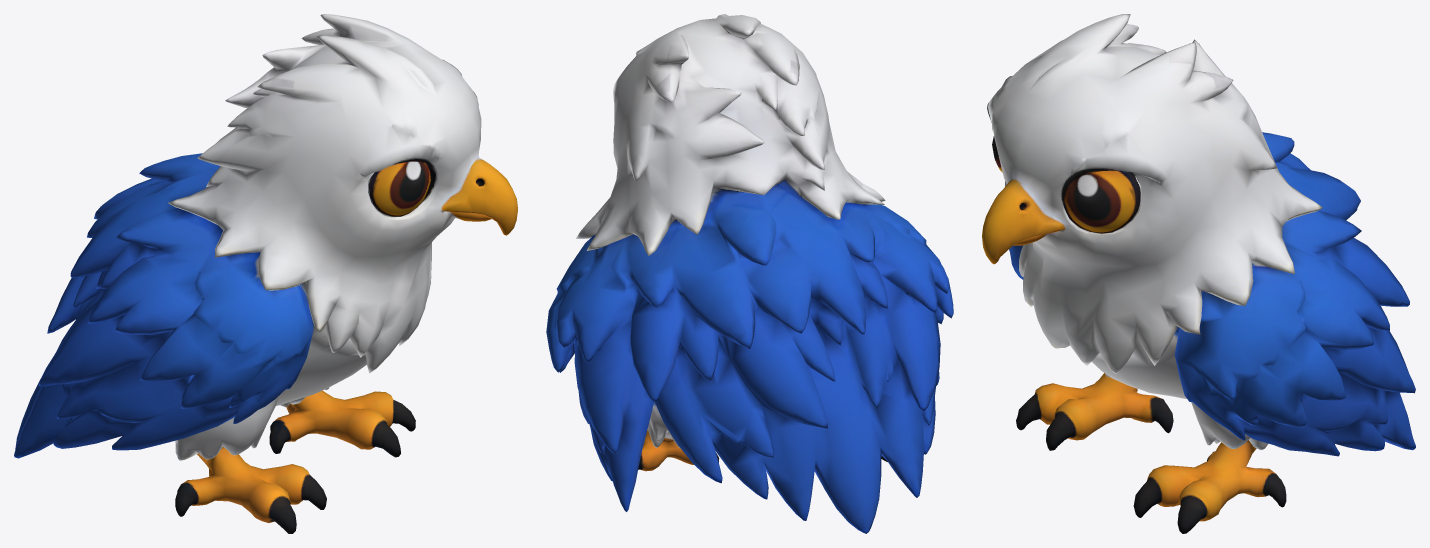
Rendered from ravenclaw-0.glb.
3 views of the same model, side by side, from view 1: azimuth 30°, elevation 25°; view 2: azimuth 150°, elevation 25°; view 3: azimuth 270°, elevation 25° (orthographic). The views are drawn at different scales.
Visible parts, largest first — view 1: tripo_node_3b25b7d3-0c13-49a5-8b89-b7b784f28768; view 2: tripo_node_3b25b7d3-0c13-49a5-8b89-b7b784f28768; view 3: tripo_node_3b25b7d3-0c13-49a5-8b89-b7b784f28768.
Part boxes in pixels (x1,y1,x2,y2): tripo_node_3b25b7d3-0c13-49a5-8b89-b7b784f28768: (14,14,517,533); tripo_node_3b25b7d3-0c13-49a5-8b89-b7b784f28768: (546,14,953,533); tripo_node_3b25b7d3-0c13-49a5-8b89-b7b784f28768: (982,14,1415,533).
Bounding box in the file's own units: 0.9277 × 0.998 × 0.8496.
1 material, 1 textured.
